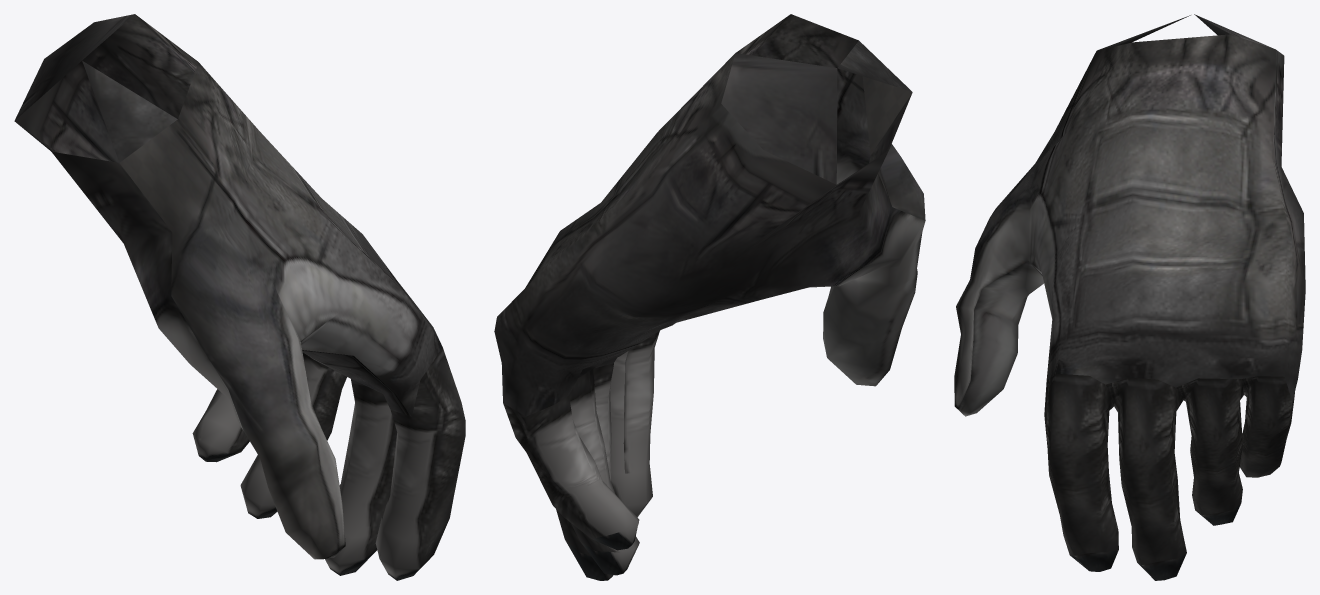
File: gordon_mano_izq.obj
The picture shows the model from 3 angles, left to right: view 1: azimuth 30°, elevation 25°; view 2: azimuth 150°, elevation 25°; view 3: azimuth 270°, elevation 25°; orthographic projection. The views are drawn at different scales.
Parts seen in each view (by area): view 1: gordon_mano_izq; view 2: gordon_mano_izq; view 3: gordon_mano_izq.
Part boxes in pixels (x1,y1,x2,y2): gordon_mano_izq: [14, 14, 465, 580]; gordon_mano_izq: [494, 14, 925, 580]; gordon_mano_izq: [954, 14, 1305, 580].
Size of the model in its own units: 0.0967 by 0.1511 by 0.1008.
